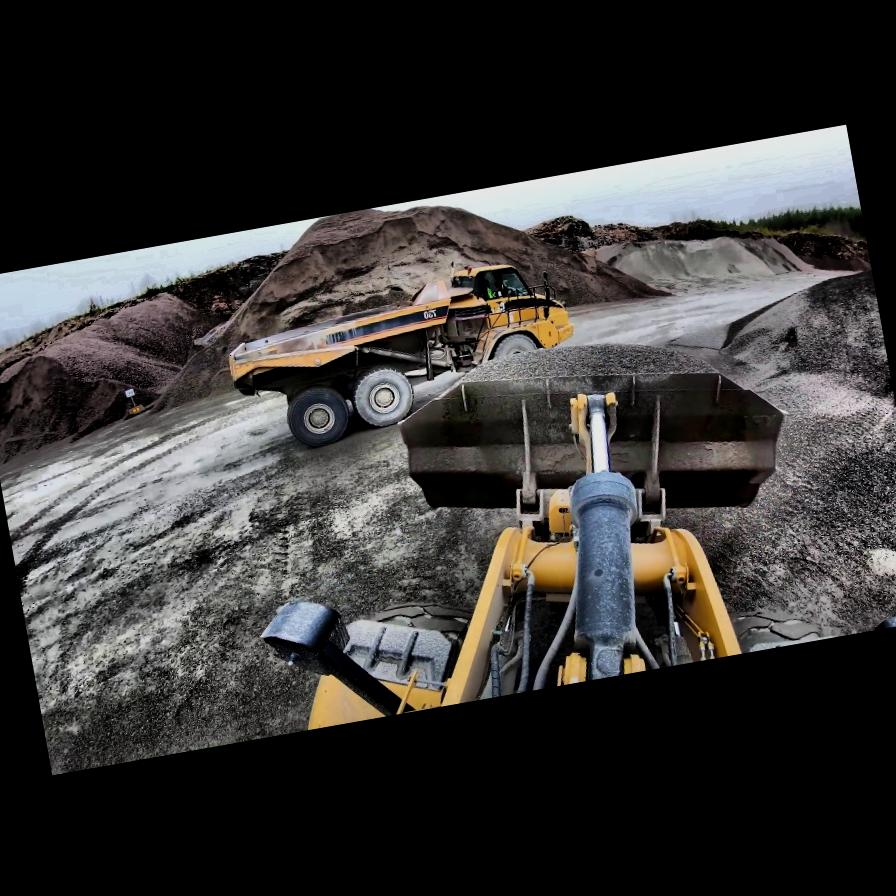anchor: (565, 384, 630, 478)
pile of gravel: (114, 157, 680, 414), (0, 277, 247, 464), (594, 208, 816, 308), (708, 263, 886, 380)
